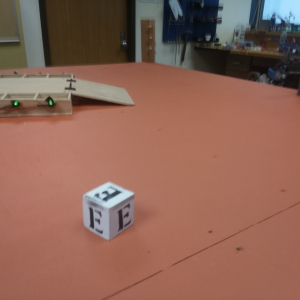blockE: (83, 182, 138, 241)
corner: (141, 19, 158, 65)
side: (1, 93, 75, 119)
slope: (71, 77, 137, 111)
